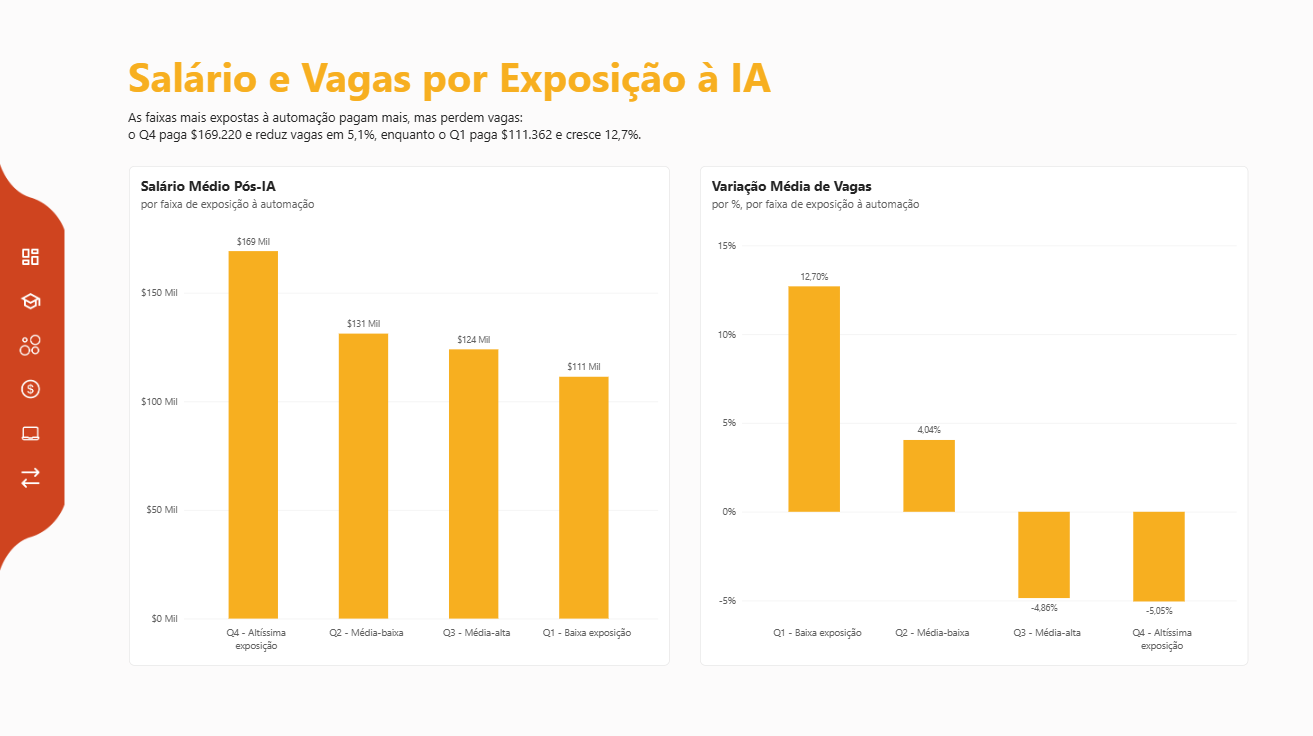

The dashboard page shown, as its layout file describes it:
{"tool":"powerbi","page":{"name":"Salário e Vagas","canvas":[1920,1080],"ordinal":3},"visuals":[{"type":"clusteredColumnChart","fields":{"Category":["fato_ai_job_impact.Faixa_Exposicao"],"Y":["Medidas Gerais.Salario_Medio_Pos_IA"]},"box":[190.7,246.7,789.3,729.3],"z":4000},{"type":"clusteredColumnChart","fields":{"Category":["fato_ai_job_impact.Faixa_Exposicao"],"Y":["Medidas Gerais.Var_Vagas_Media_Pct"]},"box":[1024,246.7,800,729.3],"z":5000},{"type":"group","id":"g1","title":"Grupo 1","box":[0,132.9,97.1,814.3],"z":9000},{"type":"image","box":[0,132.9,97.1,814.3],"z":9000,"group":"g1"},{"type":"textbox","box":[190,75.7,1322.9,87.1],"z":10000},{"type":"actionButton","box":[17.1,417.2,61.4,52.9],"z":10000,"group":"g1"},{"type":"textbox","box":[190.2,162.3,759.5,51.9],"z":11000},{"type":"actionButton","box":[17.1,482.9,61.4,52.9],"z":11000,"group":"g1"},{"type":"actionButton","box":[17.1,547.2,61.4,52.9],"z":12000,"group":"g1"},{"type":"actionButton","box":[17.1,611.5,61.4,52.9],"z":13000,"group":"g1"},{"type":"actionButton","box":[17.1,674.3,61.4,52.9],"z":14000,"group":"g1"},{"type":"actionButton","box":[17.1,351.5,61.4,52.9],"z":15000,"group":"g1"}]}

Visuals, with their boxes on the page's 1920x1080 design canvas (x1, y1, x2, y2). These are canvas units, not pixel positions in the 1313x736 screenshot, which may show the page scaled, cropped or inside an application window:
clusteredColumnChart - fato_ai_job_impact.Faixa_Exposicao x Medidas Gerais.Salario_Medio_Pos_IA: rect(191, 247, 980, 976)
clusteredColumnChart - fato_ai_job_impact.Faixa_Exposicao x Medidas Gerais.Var_Vagas_Media_Pct: rect(1024, 247, 1824, 976)
"Grupo 1" group: rect(0, 133, 97, 947)
image: rect(0, 133, 97, 947)
textbox: rect(190, 76, 1513, 163)
actionButton: rect(17, 417, 78, 470)
textbox: rect(190, 162, 950, 214)
actionButton: rect(17, 483, 78, 536)
actionButton: rect(17, 547, 78, 600)
actionButton: rect(17, 612, 78, 664)
actionButton: rect(17, 674, 78, 727)
actionButton: rect(17, 352, 78, 404)
